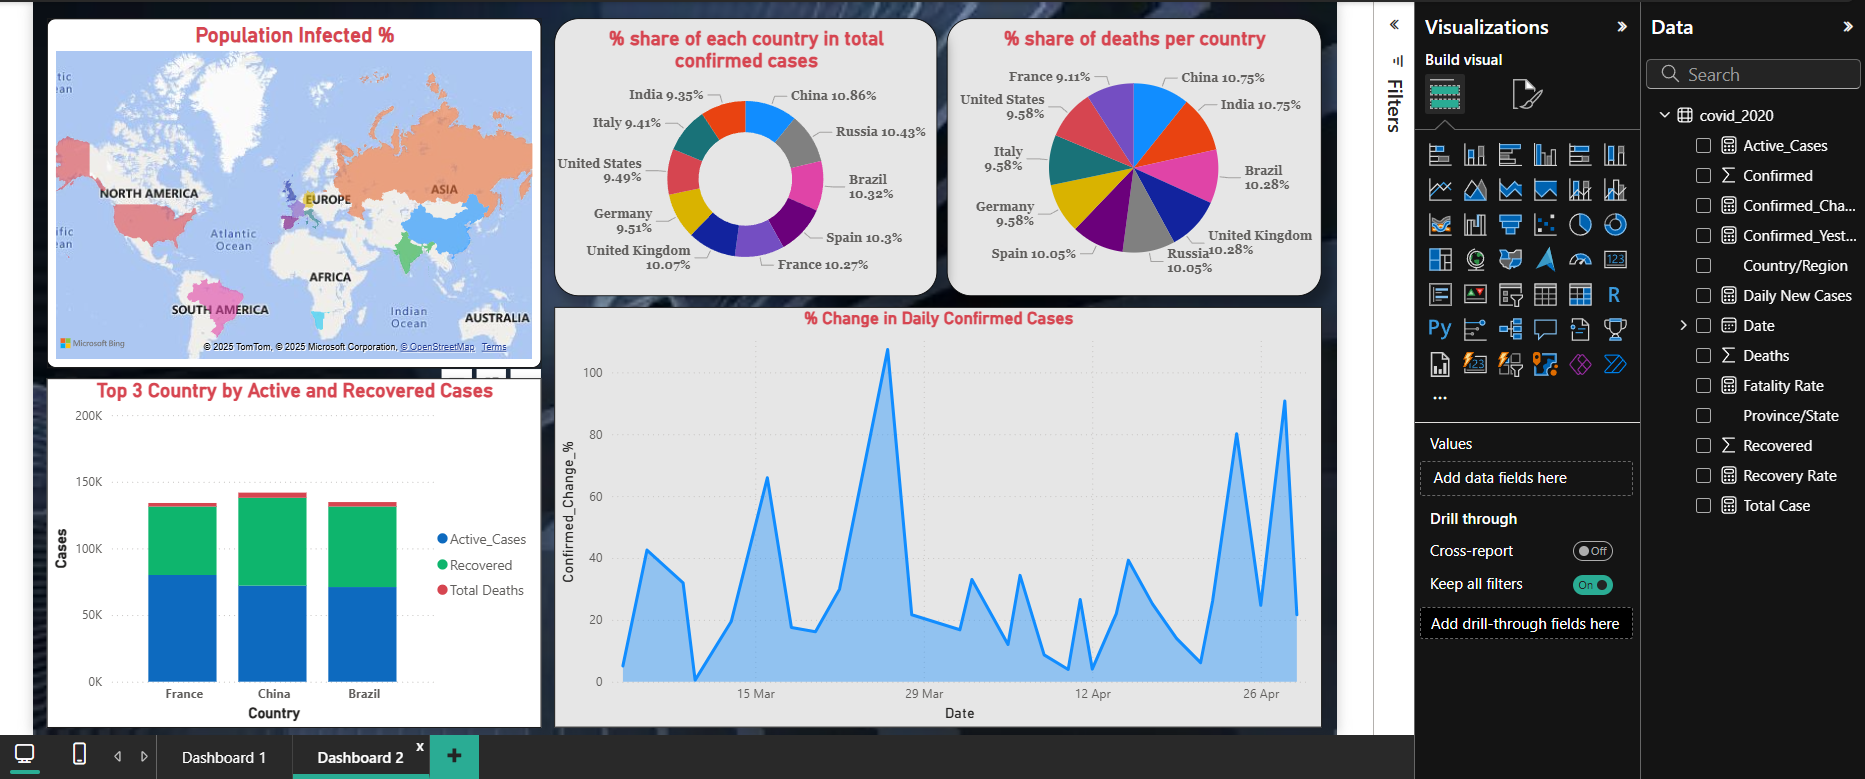

What the dashboard file says about the page in this screenshot:
{"tool":"powerbi","page":{"name":"Dashboard 2","canvas":[1280,720],"ordinal":1},"visuals":[{"type":"filledMap","title":"Population Infected %","fields":{"Category":["covid_2020.Country/Region"],"Series":["covid_2020.Country/Region"]},"box":[13.7,16.5,485.8,343.1],"z":0},{"type":"columnChart","title":"Top 3 Country by Active and Recovered Cases","fields":{"Category":["covid_2020.Country/Region"],"Y":["covid_2020.Active_Cases","Sum(covid_2020.Recovered)","Sum(covid_2020.Deaths)"]},"box":[13.7,369.1,485.8,343.1],"z":1000},{"type":"pieChart","title":"% share of deaths per country","fields":{"Y":["Count(covid_2020.Deaths)"],"Category":["covid_2020.Country/Region"]},"box":[897.4,16.5,367.8,273.1],"z":2000},{"type":"donutChart","title":"% share of each country in total confirmed cases","fields":{"Y":["Sum(covid_2020.Confirmed)"],"Category":["covid_2020.Country/Region"]},"box":[511.8,16.5,376,273.1],"z":3000},{"type":"lineChart","title":"% Change in Daily Confirmed Cases","fields":{"Y":["covid_2020.Confirmed_Change_%"],"Category":["covid_2020.Date"]},"box":[511.8,299.1,753.3,413],"z":3001}]}

Visuals, with their boxes on the page's 1280x720 design canvas (x1, y1, x2, y2). These are canvas units, not pixel positions in the 1865x779 screenshot, which may show the page scaled, cropped or inside an application window:
"Population Infected %" filledMap: pyautogui.locateOnScreen(14, 16, 500, 360)
"Top 3 Country by Active and Recovered Cases" columnChart: pyautogui.locateOnScreen(14, 369, 500, 712)
"% share of deaths per country" pieChart: pyautogui.locateOnScreen(897, 16, 1265, 290)
"% share of each country in total confirmed cases" donutChart: pyautogui.locateOnScreen(512, 16, 888, 290)
"% Change in Daily Confirmed Cases" lineChart: pyautogui.locateOnScreen(512, 299, 1265, 712)
